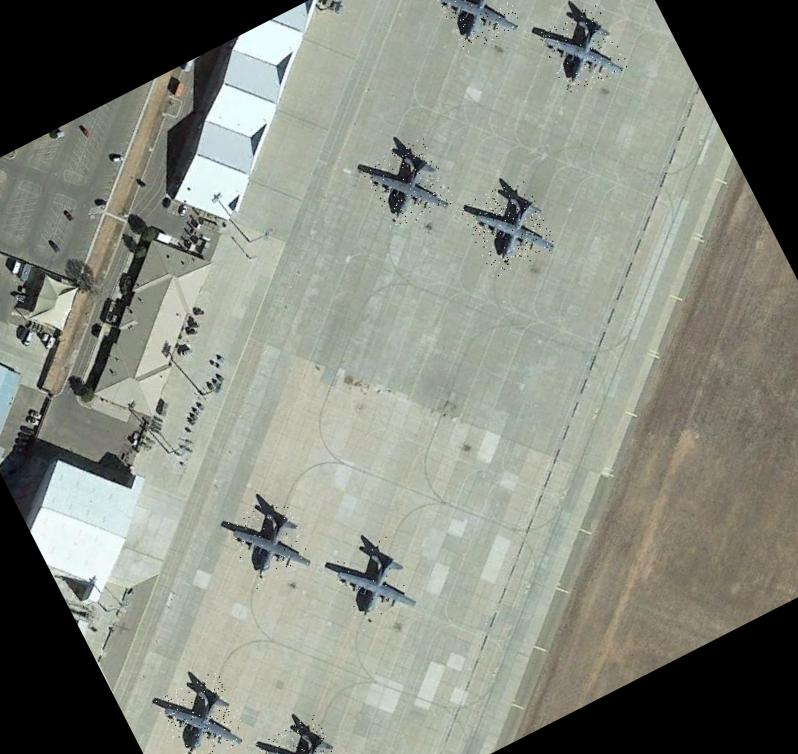A2: (457, 174, 558, 280), (220, 493, 316, 592), (326, 536, 422, 635), (360, 136, 456, 233), (536, 3, 630, 100), (152, 669, 250, 754), (433, 0, 524, 54), (255, 713, 349, 754)
